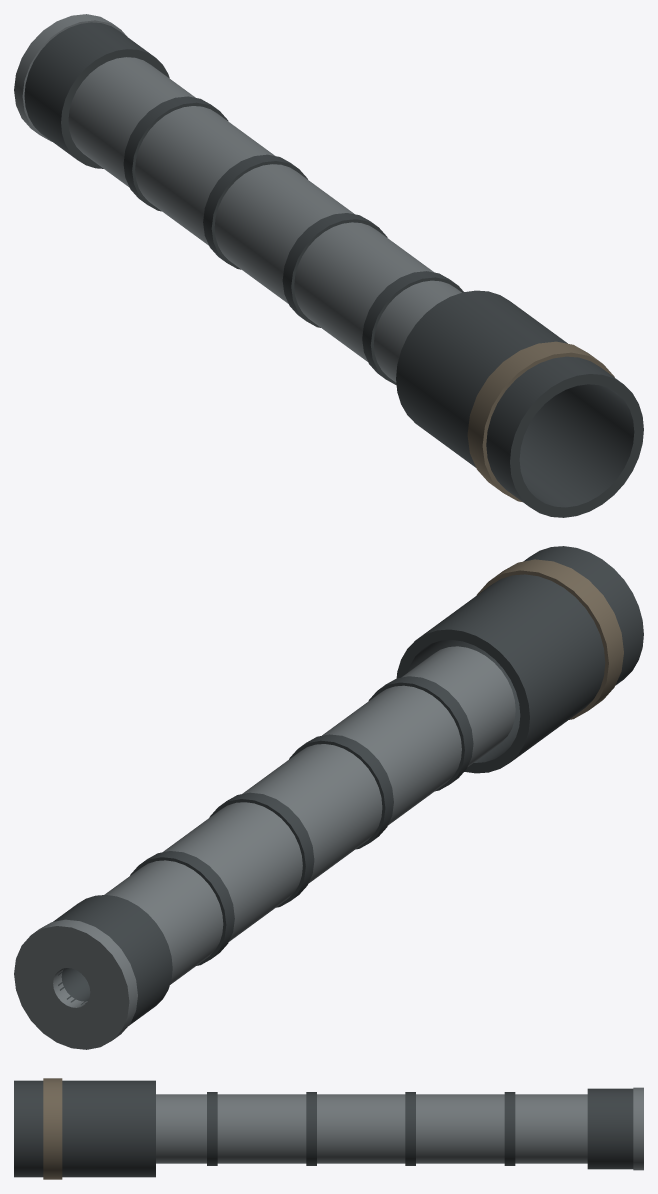
The model's file is longbarrel.glb.
3 renders of one model, top to bottom at view 1: azimuth 30°, elevation 25°; view 2: azimuth 150°, elevation 25°; view 3: azimuth 270°, elevation 25°, orthographic. The views are drawn at different scales.
Parts seen in each view (by area): view 1: longbarrel_metal, longbarrel_steel, longbarrel_Sleeve_ring; view 2: longbarrel_steel, longbarrel_metal, longbarrel_Sleeve_ring; view 3: longbarrel_steel, longbarrel_metal, longbarrel_Sleeve_ring.
Boxes of the visible parts, x1,y1,x2,y2 form: longbarrel_metal: (24,22,643,517); longbarrel_steel: (14,14,461,382); longbarrel_Sleeve_ring: (467,341,614,502); longbarrel_steel: (14,646,515,1049); longbarrel_metal: (53,546,643,1025); longbarrel_Sleeve_ring: (476,559,623,719); longbarrel_steel: (156,1087,643,1170); longbarrel_metal: (14,1080,633,1177); longbarrel_Sleeve_ring: (43,1078,62,1179).
Size of the model in its own units: 0.038 by 0.038 by 0.235.
